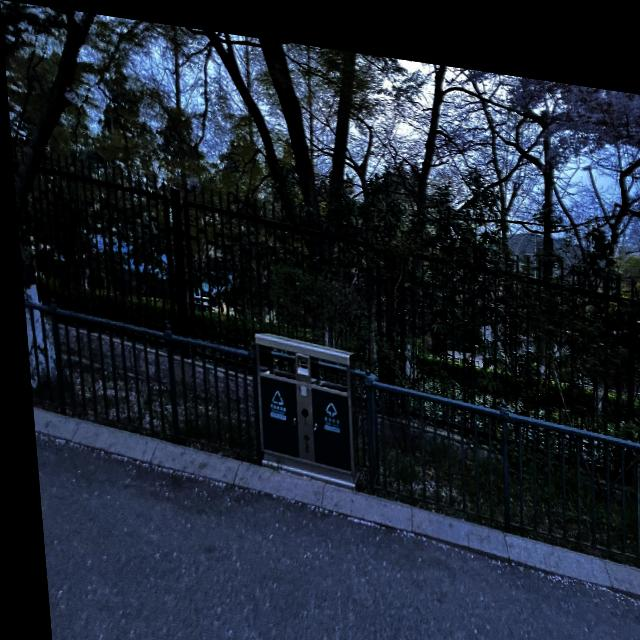garbage_bin: (244, 320, 358, 483)
